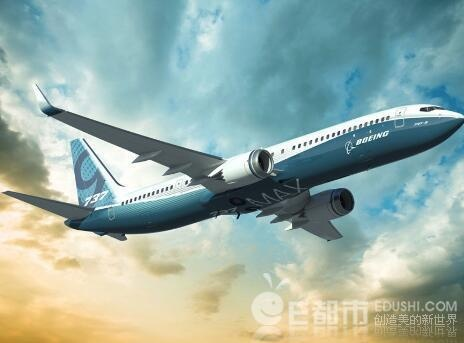airplane: (1, 83, 464, 253)
